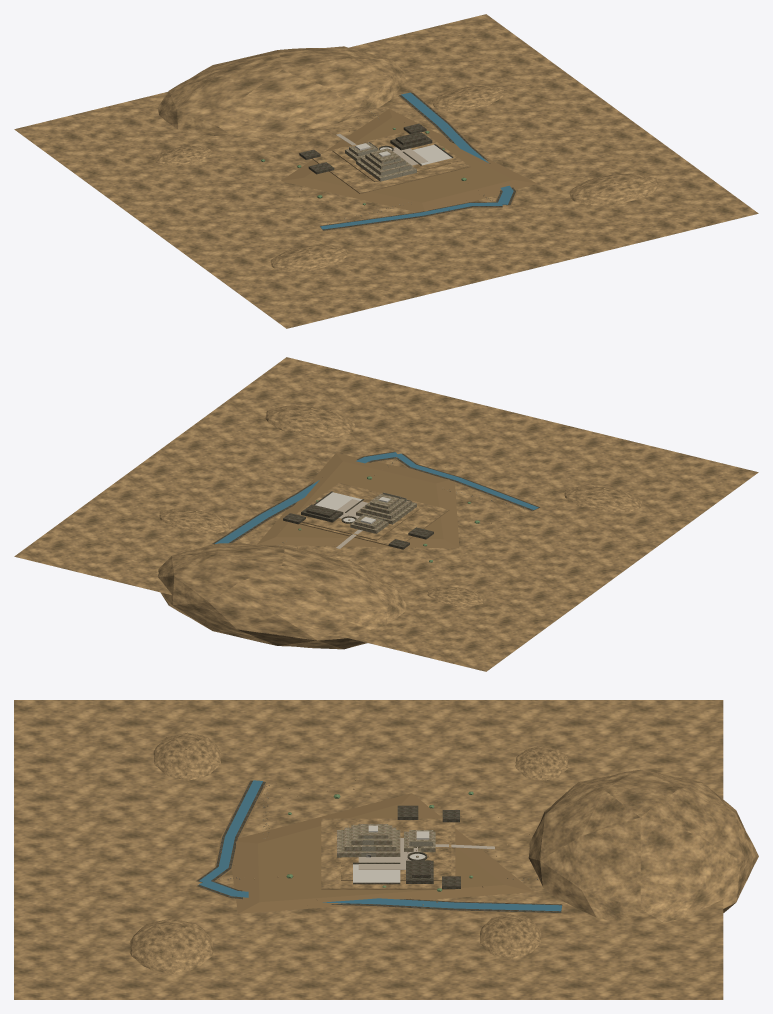
The model's file is chavin_site_lod0.glb.
3 views of the same model, one above another, from view 1: azimuth 30°, elevation 25°; view 2: azimuth 150°, elevation 25°; view 3: azimuth 270°, elevation 25° (orthographic). The views are drawn at different scales.
Parts seen in each view (by area): view 1: GEO-Chavin_LOD0_Terrain, GEO-Chavin_LOD0_City; view 2: GEO-Chavin_LOD0_Terrain, GEO-Chavin_LOD0_City; view 3: GEO-Chavin_LOD0_Terrain, GEO-Chavin_LOD0_City.
Part boxes in pixels (bbox=[...]): GEO-Chavin_LOD0_Terrain: bbox=[14, 14, 758, 328]; GEO-Chavin_LOD0_City: bbox=[299, 123, 453, 181]; GEO-Chavin_LOD0_Terrain: bbox=[14, 357, 758, 671]; GEO-Chavin_LOD0_City: bbox=[283, 491, 433, 549]; GEO-Chavin_LOD0_Terrain: bbox=[14, 700, 758, 999]; GEO-Chavin_LOD0_City: bbox=[337, 805, 460, 888].
Bounding box in the file's own units: 900 × 110 × 945.
Materials: 14 (5 with a texture image).
